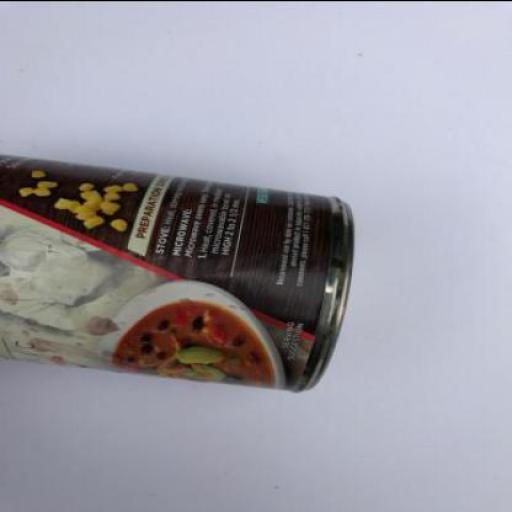metal: (1, 153, 356, 390)
